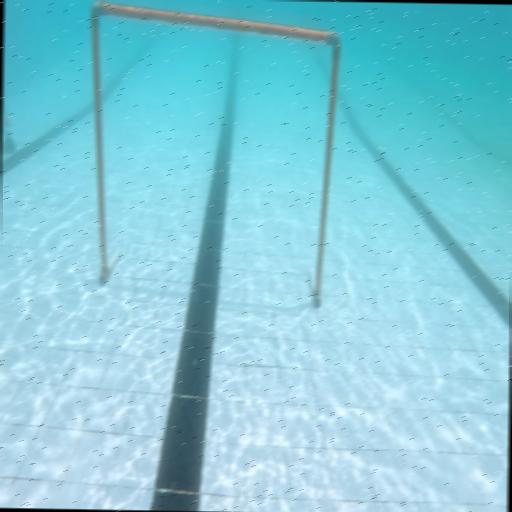gate: (85, 0, 342, 309)
